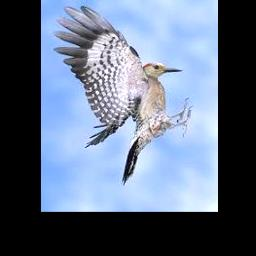Woodpecker: (53, 6, 193, 185)
